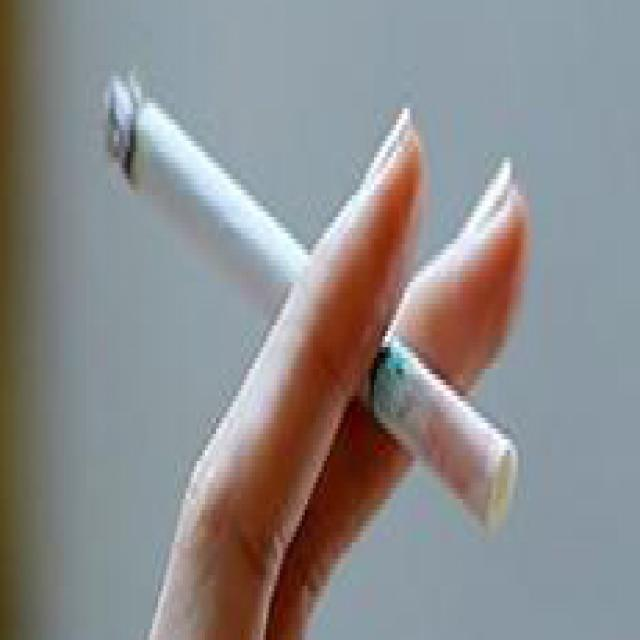smoking: (100, 69, 520, 542)
